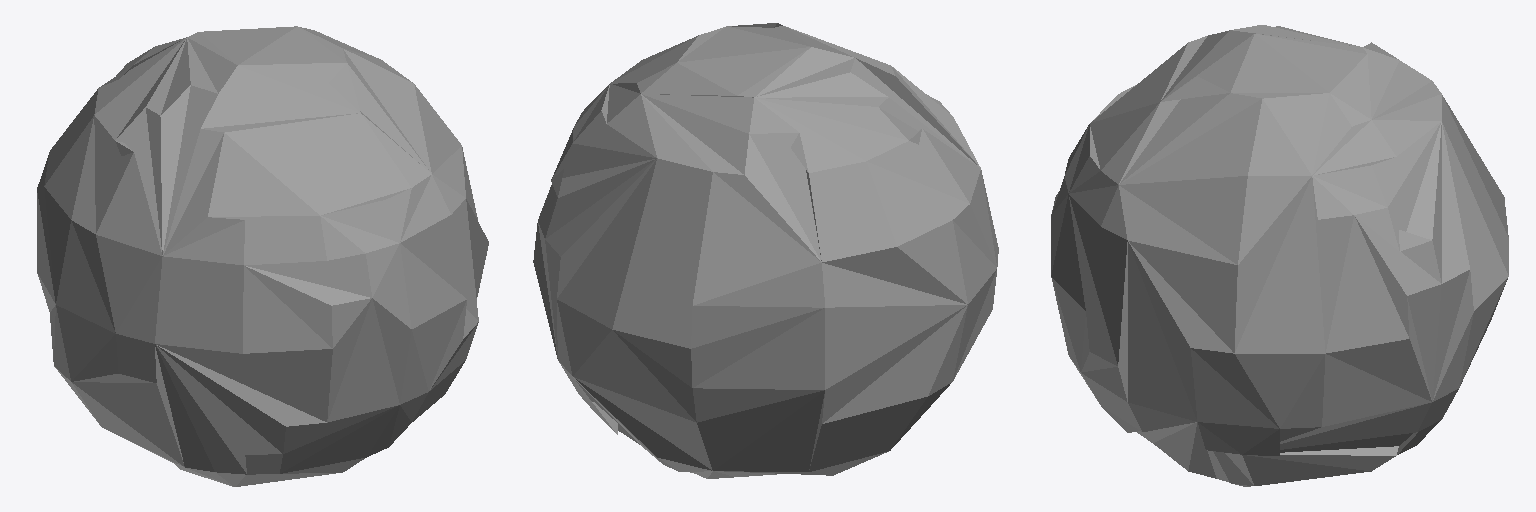
File: TestBullet.obj
3 views of the same model, side by side, from view 1: azimuth 30°, elevation 25°; view 2: azimuth 150°, elevation 25°; view 3: azimuth 270°, elevation 25° (orthographic).
Parts seen in each view (by area): view 1: Sphere; view 2: Sphere; view 3: Sphere.
Boxes of the visible parts, x1,y1,x2,y2 form: Sphere: [37, 26, 488, 486]; Sphere: [533, 23, 998, 478]; Sphere: [1051, 25, 1508, 486].
Bounding box in the file's own units: 0.1365 × 0.1352 × 0.1352.